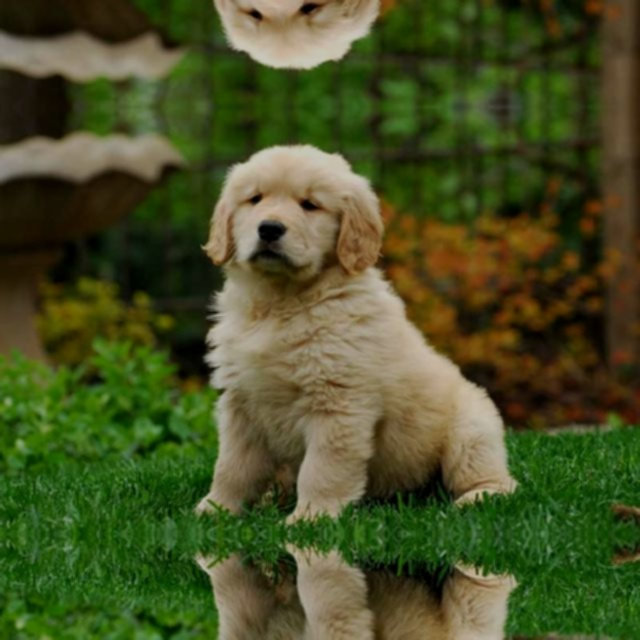dog: (182, 127, 511, 519), (182, 548, 511, 640), (182, 0, 511, 85)
